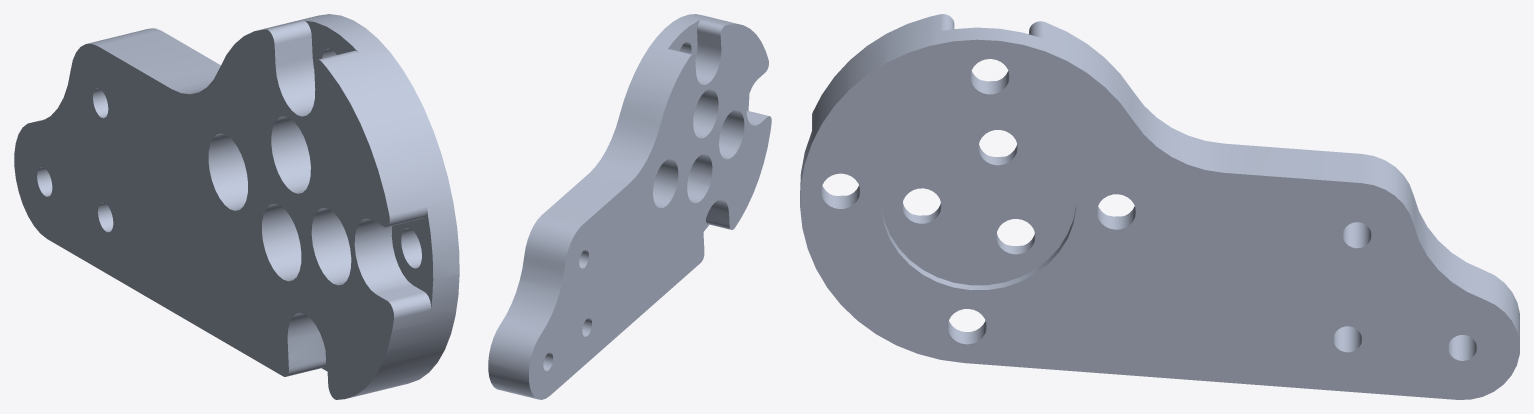
Rendered from finger_outter_02.obj.
The picture shows the model from 3 angles, left to right: view 1: azimuth 30°, elevation 25°; view 2: azimuth 150°, elevation 25°; view 3: azimuth 270°, elevation 25°; orthographic projection. The views are drawn at different scales.
Parts seen in each view (by area): view 1: finger_outter_02; view 2: finger_outter_02; view 3: finger_outter_02.
Part boxes in pixels (left/top/right/bottom): finger_outter_02: left=14, top=14, right=459, bottom=399; finger_outter_02: left=488, top=14, right=771, bottom=399; finger_outter_02: left=800, top=14, right=1519, bottom=399.
Size of the model in its own units: 0.006 by 0.0345 by 0.0625.
